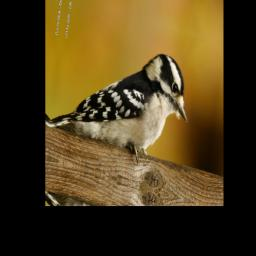Woodpecker: (49, 22, 195, 175)
